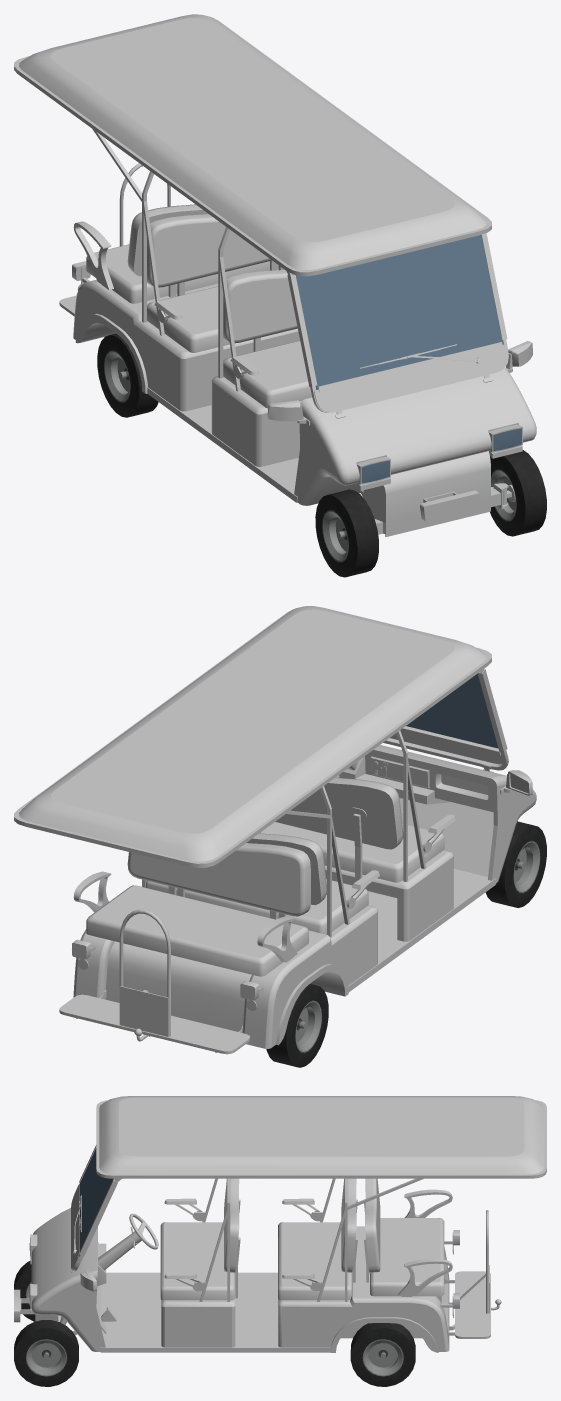
The model's file is GolfCart_6.FBX.
3 views of the same model, one above another, from view 1: azimuth 30°, elevation 25°; view 2: azimuth 150°, elevation 25°; view 3: azimuth 270°, elevation 25° (orthographic). The views are drawn at different scales.
Visible parts, largest first — view 1: GolfCart, GolfCart_Wheel_Front_Right, GolfCart_Wheel_Front_Left, GolfCart_Wheel_Rear_Right; view 2: GolfCart, GolfCart_Wheel_Front_Right, GolfCart_Wheel_Rear_Right; view 3: GolfCart, GolfCart_Wheel_Front_Left, GolfCart_Wheel_Rear_Left, GolfCart_Wheel_Front_Right.
Boxes of the visible parts, bbox=[...] form: GolfCart: bbox=[14, 14, 536, 536]; GolfCart_Wheel_Front_Right: bbox=[315, 489, 378, 577]; GolfCart_Wheel_Front_Left: bbox=[490, 450, 546, 536]; GolfCart_Wheel_Rear_Right: bbox=[97, 333, 158, 417]; GolfCart: bbox=[14, 606, 536, 1054]; GolfCart_Wheel_Front_Right: bbox=[485, 821, 546, 907]; GolfCart_Wheel_Rear_Right: bbox=[266, 984, 328, 1067]; GolfCart: bbox=[14, 1096, 546, 1352]; GolfCart_Wheel_Front_Left: bbox=[14, 1320, 78, 1386]; GolfCart_Wheel_Rear_Left: bbox=[350, 1323, 415, 1386]; GolfCart_Wheel_Front_Right: bbox=[14, 1261, 61, 1321].
Bounding box in the file's own units: 178 × 186 × 401.
